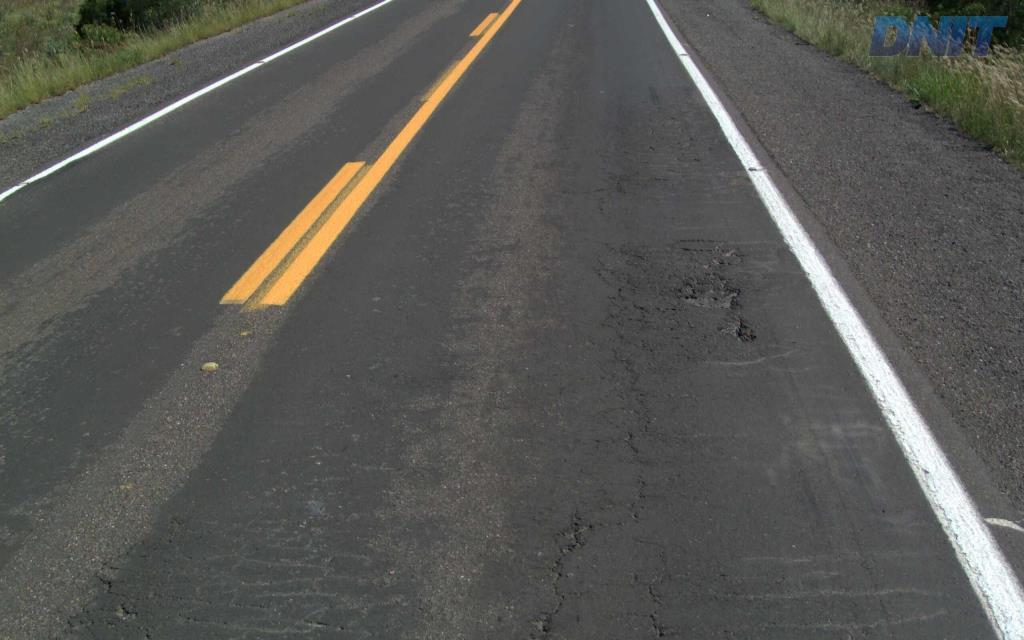crack: (668, 272, 743, 313), (552, 509, 594, 553)
